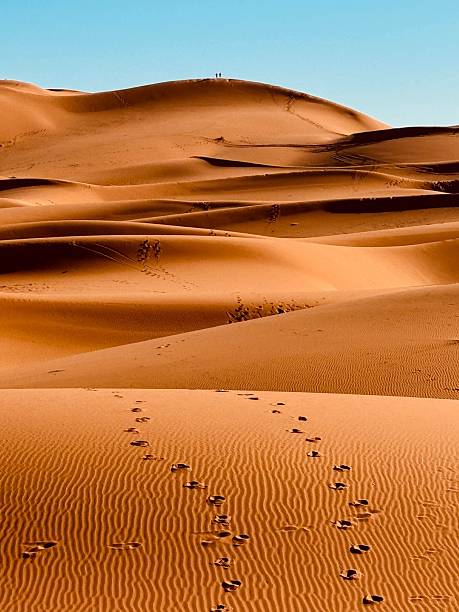animal_footprint: (21, 540, 58, 559), (108, 541, 140, 549), (221, 580, 241, 591), (331, 519, 353, 529), (362, 594, 383, 604), (340, 568, 359, 579), (206, 495, 225, 506), (213, 557, 231, 568), (212, 514, 230, 525), (183, 480, 207, 488), (349, 544, 370, 553), (232, 534, 249, 545), (170, 463, 190, 471), (328, 482, 347, 489), (333, 464, 351, 471), (130, 440, 148, 446), (307, 450, 320, 457)
